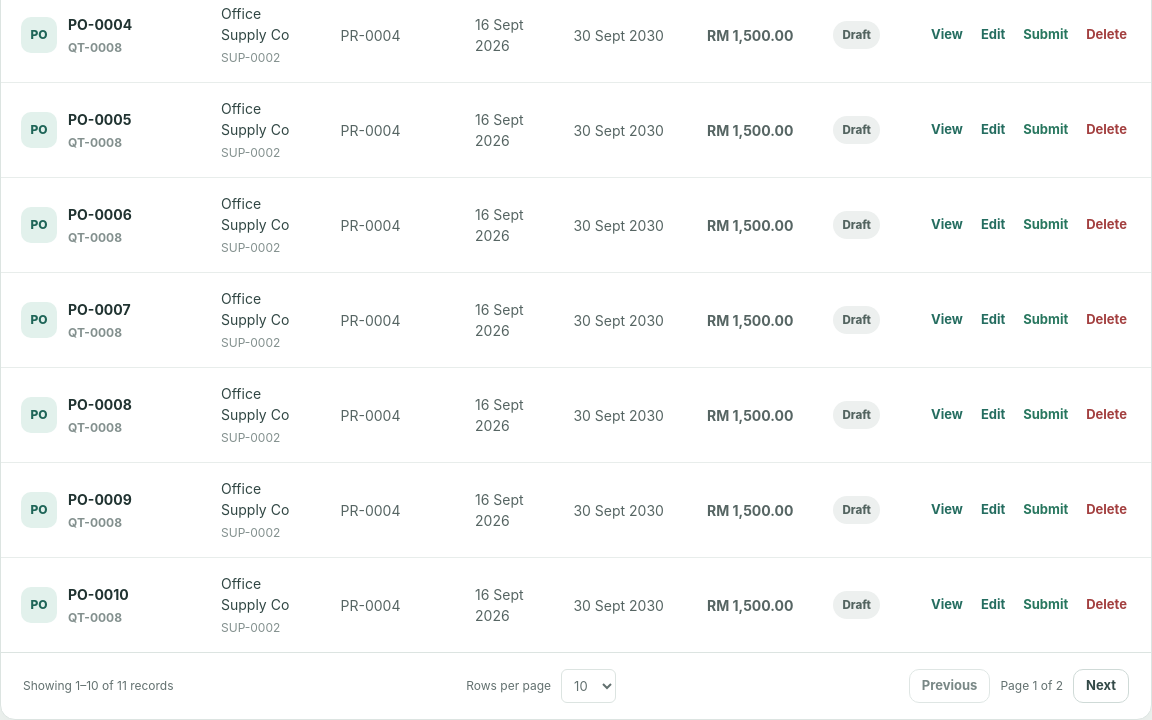
Test case: PurchaseOrderListView › returns to a valid page after deleting the final order on the last page
(page scrolled)
Click the button "Next".
click(1101, 686)  # box top-left (1073, 669), bottom-right (1129, 703)
(page scrolled)
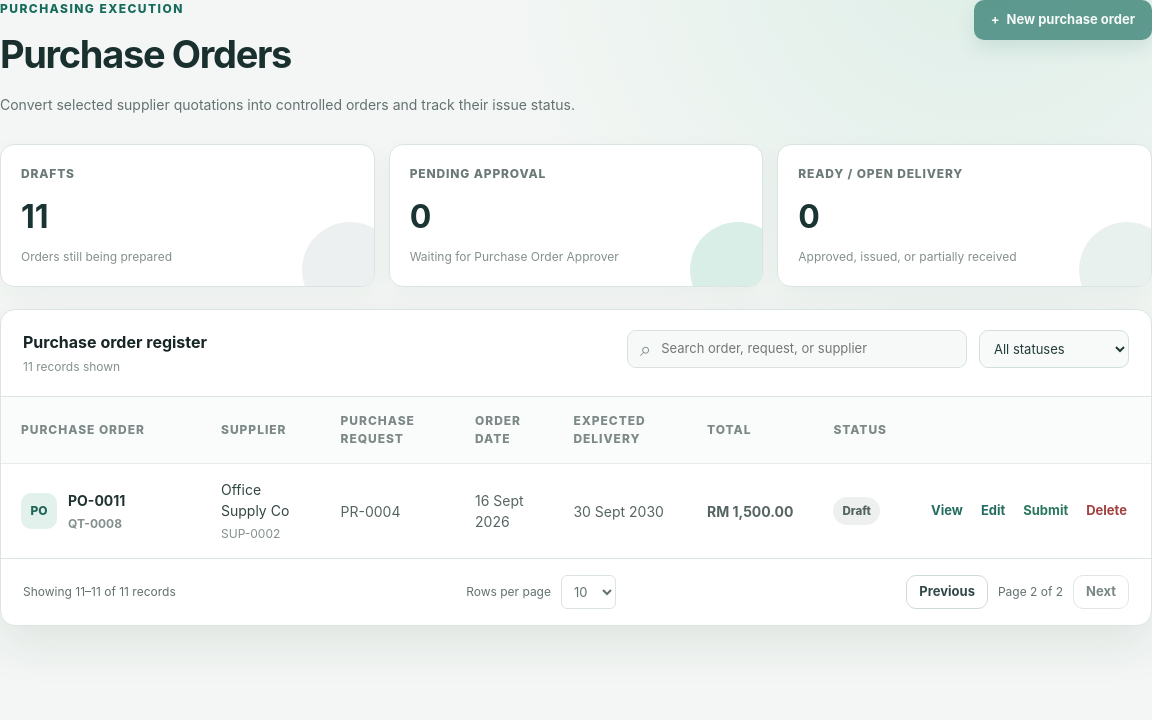
Now the table shows "PO-0011", box top-left (68, 492), bottom-right (125, 509)
Click the button "Delete".
click(1107, 511)  # box top-left (1082, 497), bottom-right (1131, 525)
(page scrolled)
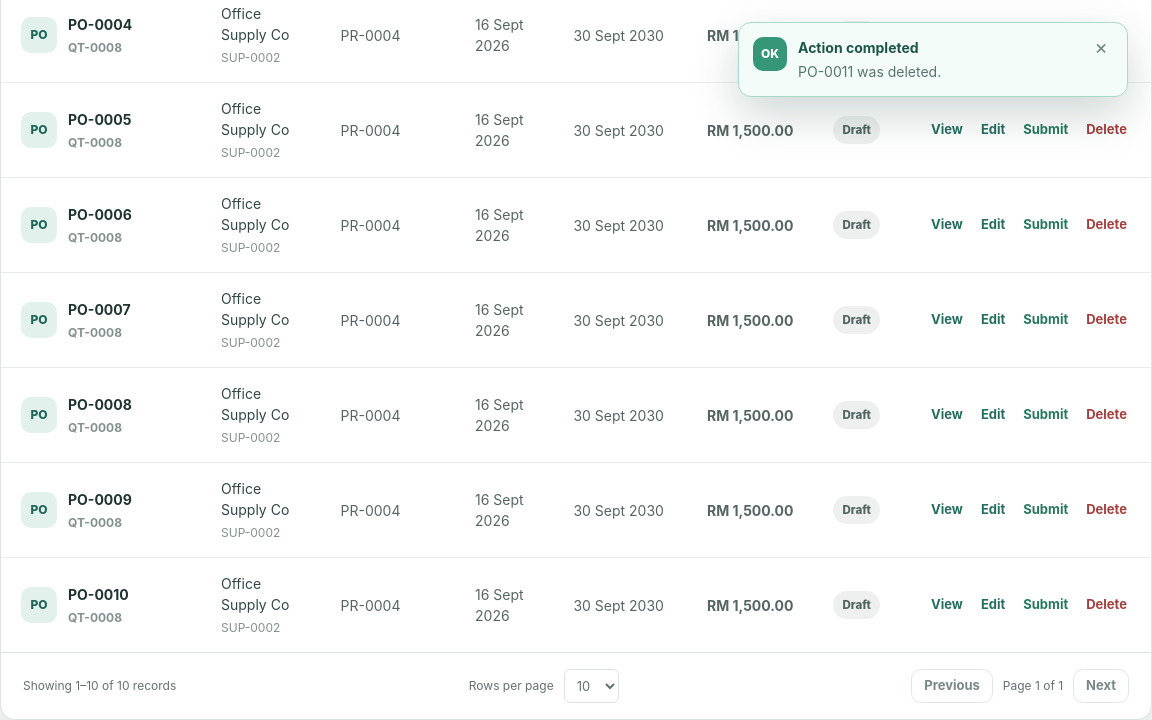
Now the navigation bar with class "table-pagination" shows "Page 1 of 1", box top-left (1003, 678), bottom-right (1063, 693)
Now the text "Showing 1–10 of 10 records" is shown, box top-left (23, 677), bottom-right (176, 695)
